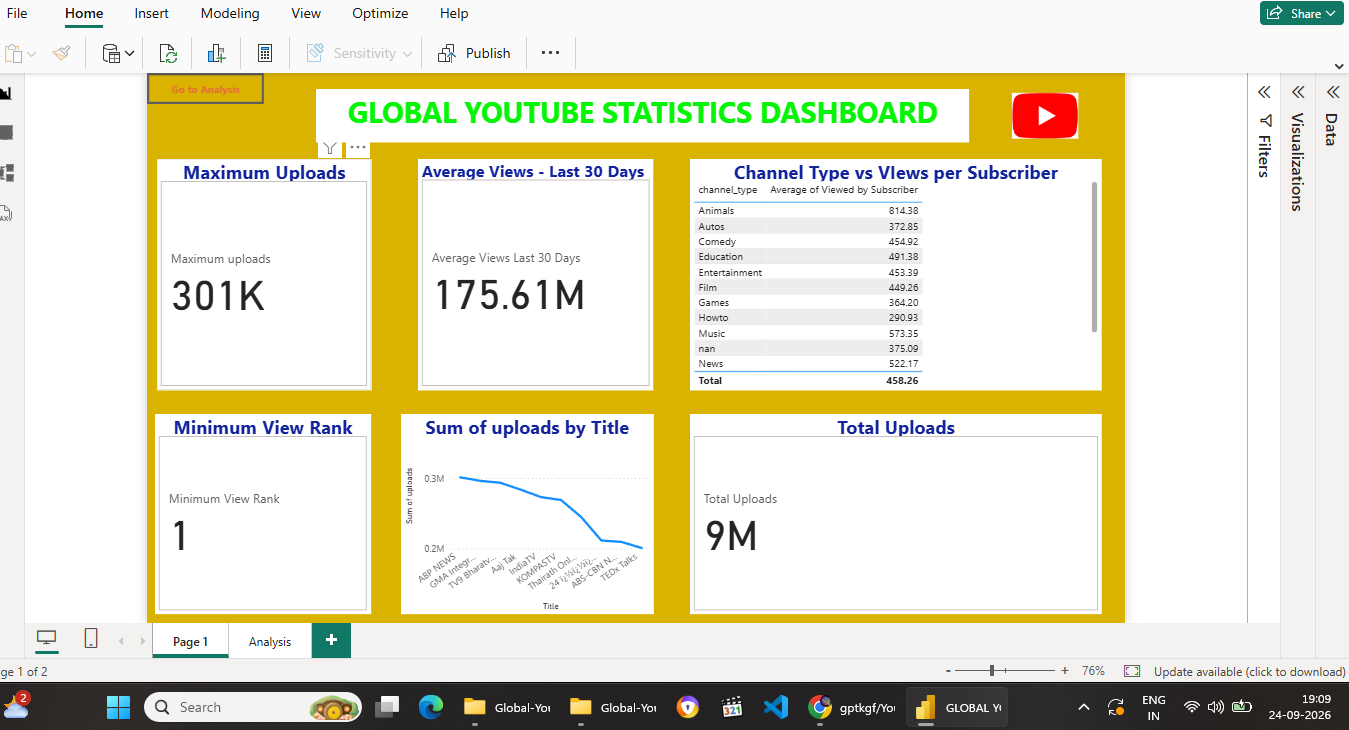

What the dashboard file says about the page in this screenshot:
{"tool":"powerbi","page":{"name":"Page 1","canvas":[1280,720],"ordinal":0},"visuals":[{"type":"cardVisual","title":"Maximum Uploads","fields":{"Data":["Global YouTube Statistics.Maximum uploads"]},"box":[12.9,112.7,280.8,302.9],"z":0},{"type":"cardVisual","title":"Minimum View Rank","fields":{"Data":["Global YouTube Statistics.Minimum View Rank"]},"box":[11.1,447,282.6,262.3],"z":1000},{"type":"cardVisual","title":"Average Views - Last 30 Days","fields":{"Data":["Global YouTube Statistics.Average Views Last 30 Days"]},"box":[354.6,112.7,308.5,302.9],"z":2000},{"type":"lineChart","fields":{"Category":["Global YouTube Statistics.Title"],"Y":["Sum(Global YouTube Statistics.uploads)"]},"box":[332.5,447,330.6,262.3],"z":3000},{"type":"tableEx","title":"Channel Type vs VIews per Subscriber","fields":{"Values":["Global YouTube Statistics.channel_type","Avg(Global YouTube Statistics.Viewed by Subscriber)"]},"box":[711.1,112.7,539.3,302.9],"z":4000},{"type":"cardVisual","title":"Total Uploads","fields":{"Data":["Global YouTube Statistics.Total Uploads"]},"box":[711.1,447,539.3,262.3],"z":5000},{"type":"actionButton","box":[0,0,153.3,40.6],"z":7001},{"type":"textbox","box":[221.6,20.3,855.2,70.2],"z":7002},{"type":"image","box":[1102.7,20.3,147.8,70.2],"z":7003}]}

Visuals, with their boxes on the page's 1280x720 design canvas (x1, y1, x2, y2). These are canvas units, not pixel positions in the 1349x730 screenshot, which may show the page scaled, cropped or inside an application window:
"Maximum Uploads" cardVisual: (13, 113, 294, 416)
"Minimum View Rank" cardVisual: (11, 447, 294, 709)
"Average Views - Last 30 Days" cardVisual: (355, 113, 663, 416)
lineChart - Global YouTube Statistics.Title x Sum(Global YouTube Statistics.uploads): (332, 447, 663, 709)
"Channel Type vs VIews per Subscriber" tableEx: (711, 113, 1250, 416)
"Total Uploads" cardVisual: (711, 447, 1250, 709)
actionButton: (0, 0, 153, 41)
textbox: (222, 20, 1077, 90)
image: (1103, 20, 1250, 90)
